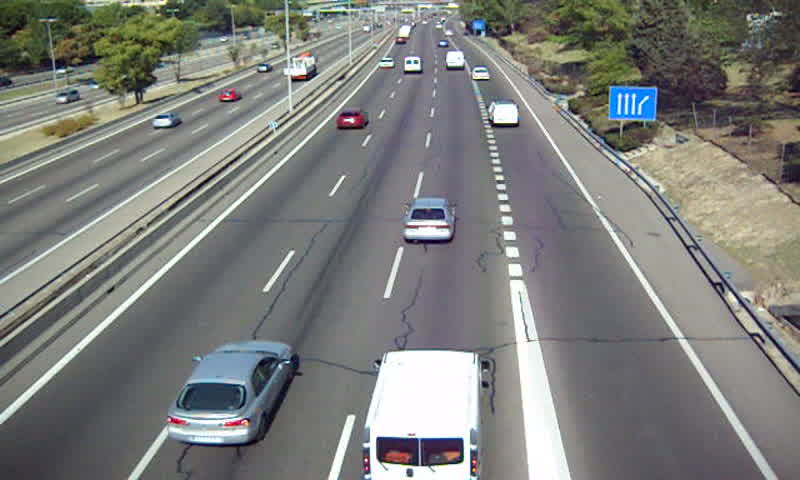car: (166, 342, 294, 444), (404, 199, 455, 242), (336, 110, 368, 129), (471, 66, 492, 81), (377, 56, 394, 68)
van: (364, 350, 483, 480), (488, 102, 520, 128), (446, 50, 465, 70), (403, 55, 422, 73)
